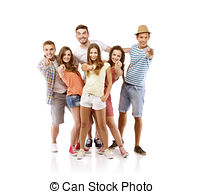person: (35, 36, 63, 71), (84, 44, 110, 77), (107, 41, 126, 82), (133, 27, 156, 58), (56, 44, 78, 73)
